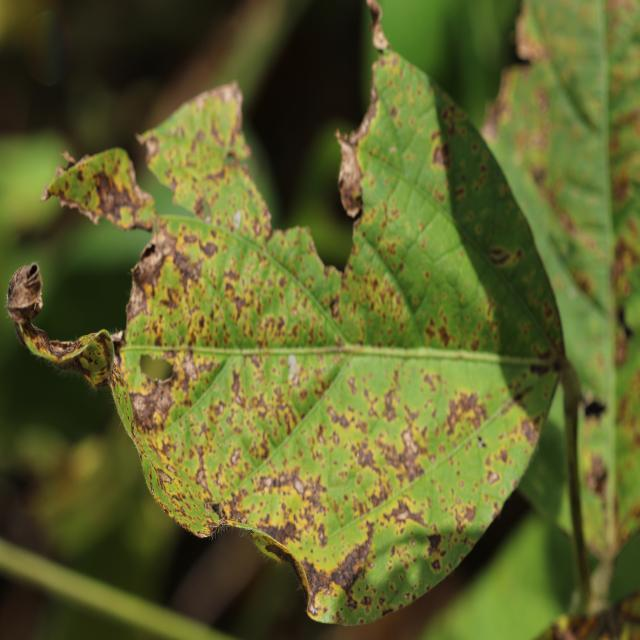Bacterial_Blight: (231, 368, 301, 445), (531, 164, 592, 241), (326, 519, 378, 594), (372, 416, 428, 484), (439, 381, 490, 450), (92, 165, 146, 228), (252, 462, 317, 513), (610, 230, 640, 340), (128, 373, 180, 432), (616, 369, 640, 443), (190, 442, 215, 496), (225, 282, 252, 325), (584, 454, 609, 498), (352, 440, 379, 474), (327, 402, 356, 431), (452, 505, 477, 535), (382, 387, 400, 422), (519, 417, 538, 447), (160, 285, 181, 312), (198, 236, 219, 259), (424, 317, 441, 345), (432, 143, 450, 168), (230, 367, 243, 400), (426, 531, 443, 554), (347, 375, 358, 395), (453, 185, 466, 201)
Soybean: (7, 0, 562, 624)
